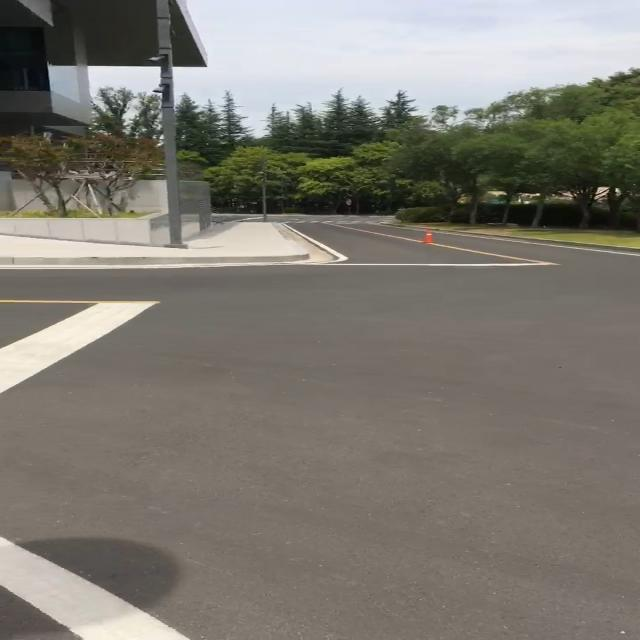obstacle: (153, 0, 185, 245), (416, 228, 440, 246)
road: (0, 218, 640, 640)
